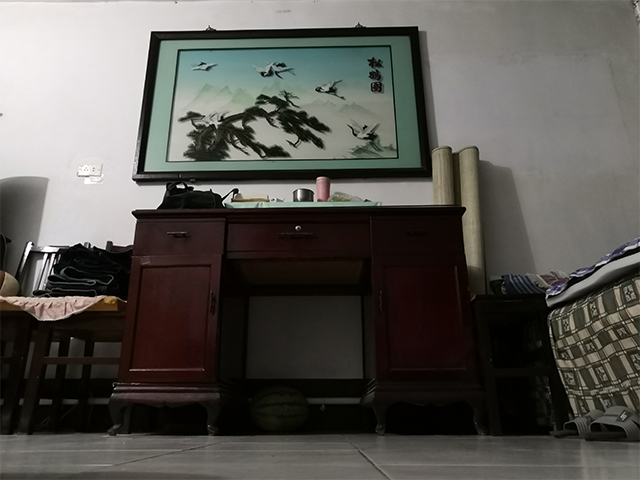cabinet: (104, 202, 491, 440)
slippers: (546, 403, 640, 444)
stool: (1, 240, 133, 437), (471, 286, 577, 438)
